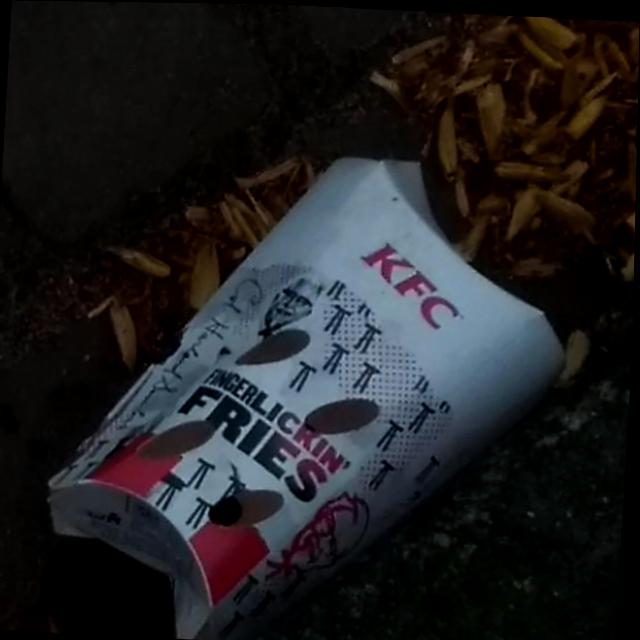Paper: (34, 136, 581, 640)
